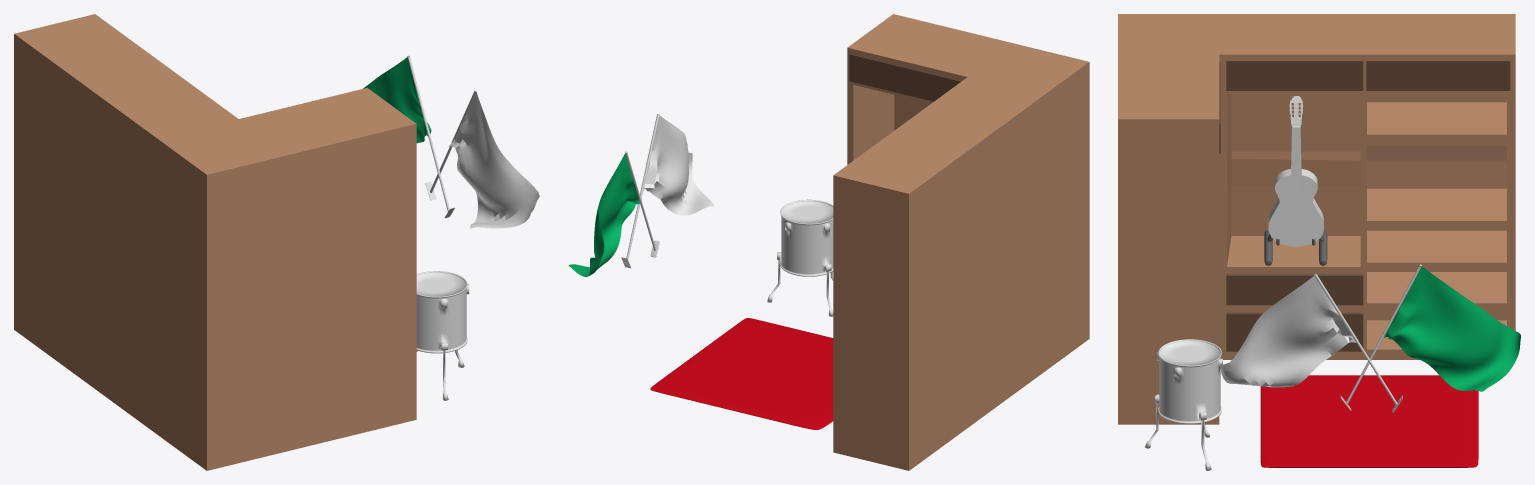
The model's file is shelf.fbx.
3 renders of one model, left to right at view 1: azimuth 30°, elevation 25°; view 2: azimuth 150°, elevation 25°; view 3: azimuth 270°, elevation 25°, orthographic. The views are drawn at different scales.
Visible parts, largest first — view 1: Cube, flag1, Cylinder, flag1cloth.001; view 2: Cube, Plane, flag1, Cylinder, flag1cloth.001, Cube.009; view 3: Cube, Plane, flag1cloth.001, flag1, Cylinder, Cube.008, Cube.002, Cube.007, Cube.005, Cube.006, Cube.001.
Boxes of the visible parts, bbox=[...] form: Cube: bbox=[14, 14, 416, 470]; flag1: bbox=[425, 89, 539, 228]; Cylinder: bbox=[416, 271, 469, 400]; flag1cloth.001: bbox=[363, 55, 454, 218]; Cube: bbox=[833, 14, 1089, 470]; Plane: bbox=[650, 318, 833, 429]; flag1: bbox=[621, 114, 714, 268]; Cylinder: bbox=[767, 199, 833, 316]; flag1cloth.001: bbox=[568, 151, 659, 276]; Cube.009: bbox=[849, 54, 961, 101]; Cube: bbox=[1118, 14, 1515, 424]; Plane: bbox=[1260, 375, 1478, 467]; flag1cloth.001: bbox=[1340, 264, 1520, 410]; flag1: bbox=[1219, 274, 1402, 412]; Cylinder: bbox=[1144, 339, 1222, 470]; Cube.008: bbox=[1366, 61, 1510, 90]; Cube.002: bbox=[1268, 96, 1323, 246]; Cube.007: bbox=[1226, 61, 1363, 90]; Cube.005: bbox=[1226, 274, 1363, 305]; Cube.006: bbox=[1226, 312, 1363, 351]; Cube.001: bbox=[1264, 230, 1327, 265].
Size of the model in its own units: 258 by 190 by 227.
